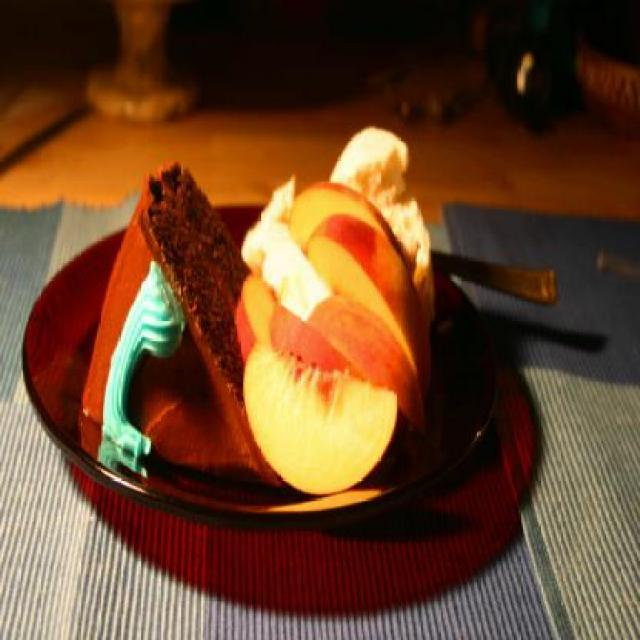Peach: (236, 176, 433, 498)
